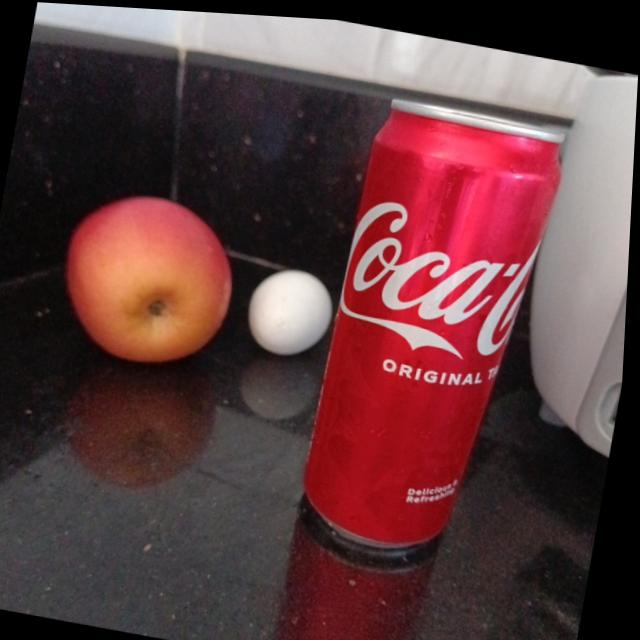apple: (55, 180, 245, 370)
coke: (294, 85, 572, 566)
egg: (244, 260, 336, 356)
